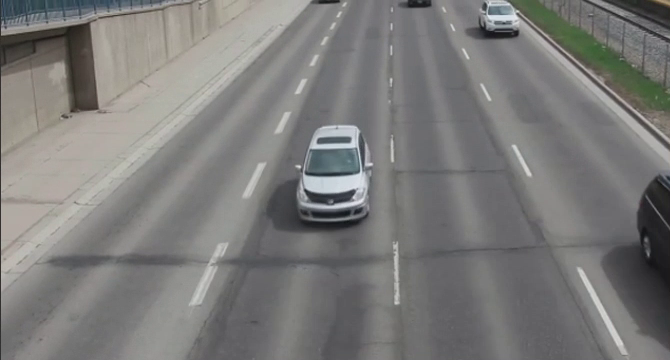car: (292, 121, 374, 231), (629, 168, 670, 289), (476, 1, 531, 41)
